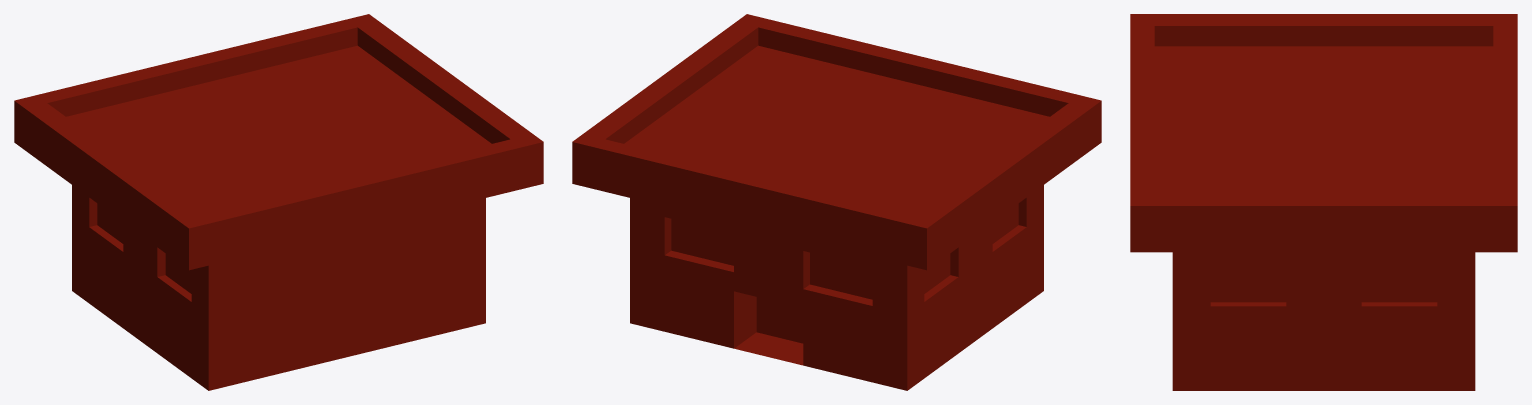
Rendered from casa.obj.
3 renders of one model, left to right at view 1: azimuth 30°, elevation 25°; view 2: azimuth 150°, elevation 25°; view 3: azimuth 270°, elevation 25°, orthographic. The views are drawn at different scales.
Visible parts, largest first — view 1: Cube.001; view 2: Cube.001; view 3: Cube.001.
Boxes of the visible parts, x1=… form: Cube.001: x1=14, y1=14, x2=543, y2=390; Cube.001: x1=572, y1=14, x2=1101, y2=390; Cube.001: x1=1130, y1=14, x2=1517, y2=390.
Size of the model in its own units: 5.49 by 2.75 by 4.68.
